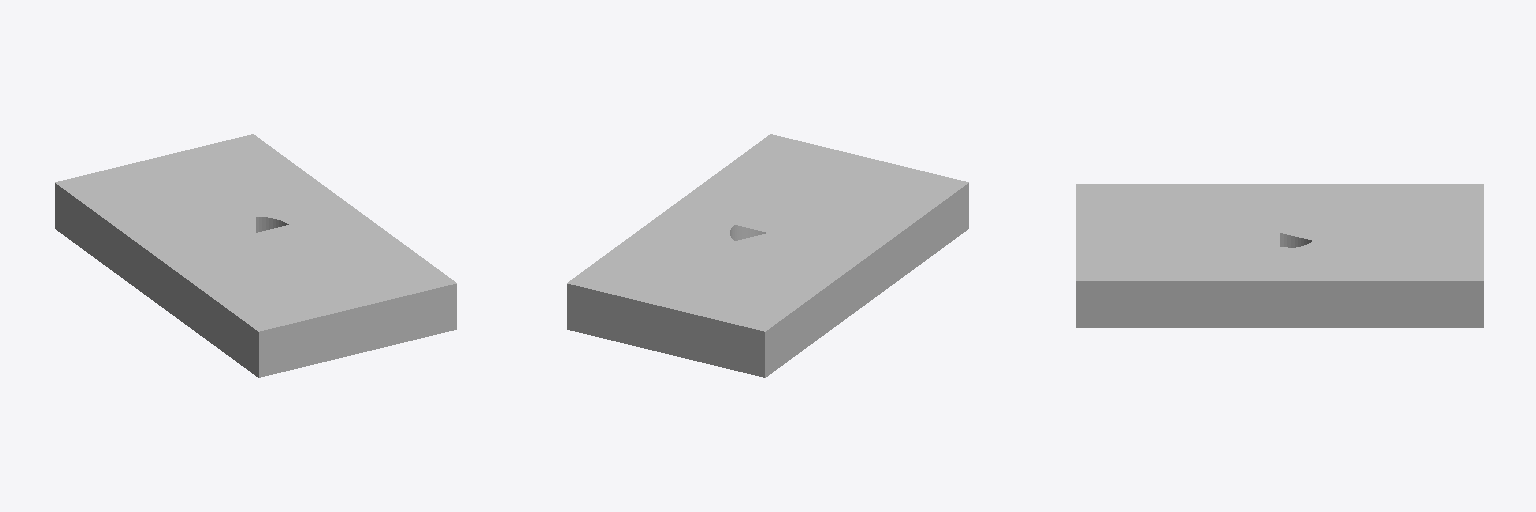
The model's file is finishPlatform.obj.
3 renders of one model, left to right at view 1: azimuth 30°, elevation 25°; view 2: azimuth 150°, elevation 25°; view 3: azimuth 270°, elevation 25°, orthographic.
Visible parts, largest first — view 1: Cube; view 2: Cube; view 3: Cube.
Boxes of the visible parts, x1=… form: Cube: x1=55, y1=134, x2=456, y2=377; Cube: x1=567, y1=134, x2=968, y2=377; Cube: x1=1076, y1=184, x2=1483, y2=327.
Bounding box in the file's own units: 0.9 × 0.2 × 1.6.